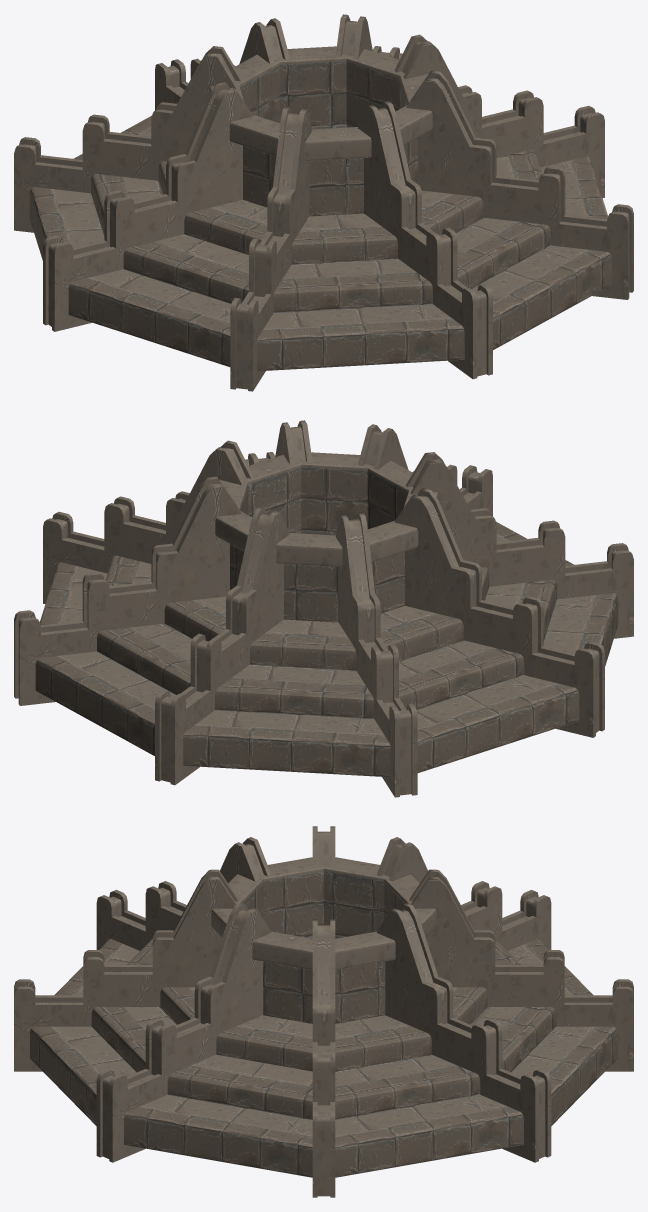
The model's file is MapFountain_a01.fbx.
The picture shows the model from 3 angles, top to bottom: view 1: azimuth 30°, elevation 25°; view 2: azimuth 150°, elevation 25°; view 3: azimuth 270°, elevation 25°; orthographic projection. The views are drawn at different scales.
Parts seen in each view (by area): view 1: Fountain_a01; view 2: Fountain_a01; view 3: Fountain_a01.
Boxes of the visible parts, <box> form: Fountain_a01: <box>14,14,633,391</box>; Fountain_a01: <box>14,420,633,797</box>; Fountain_a01: <box>14,826,633,1197</box>.
Size of the model in its own units: 1.75 by 0.5987 by 1.75.
